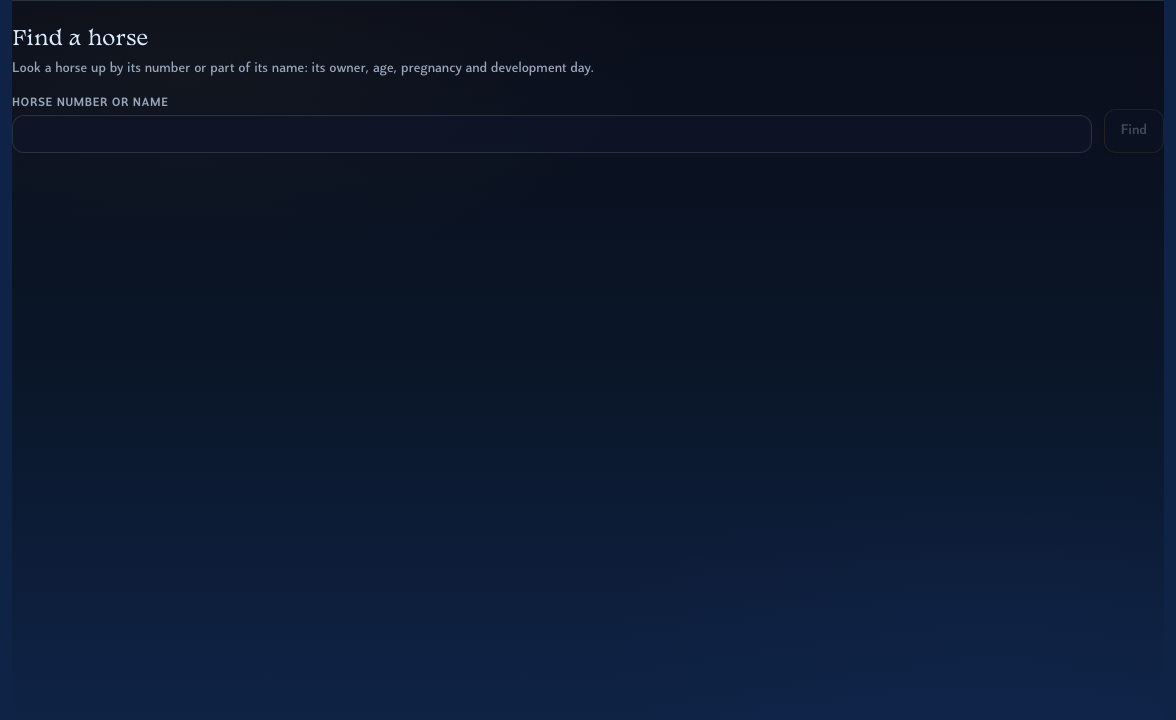
Scenario: StaffHorseLookup › names hidden traits when the server sends them (the Owner), by their authored names
The width and height of the screenshot is (1176, 720).
Type "42" into the field labelled "Horse number or name" at (552, 134), box [12, 115, 1092, 153]
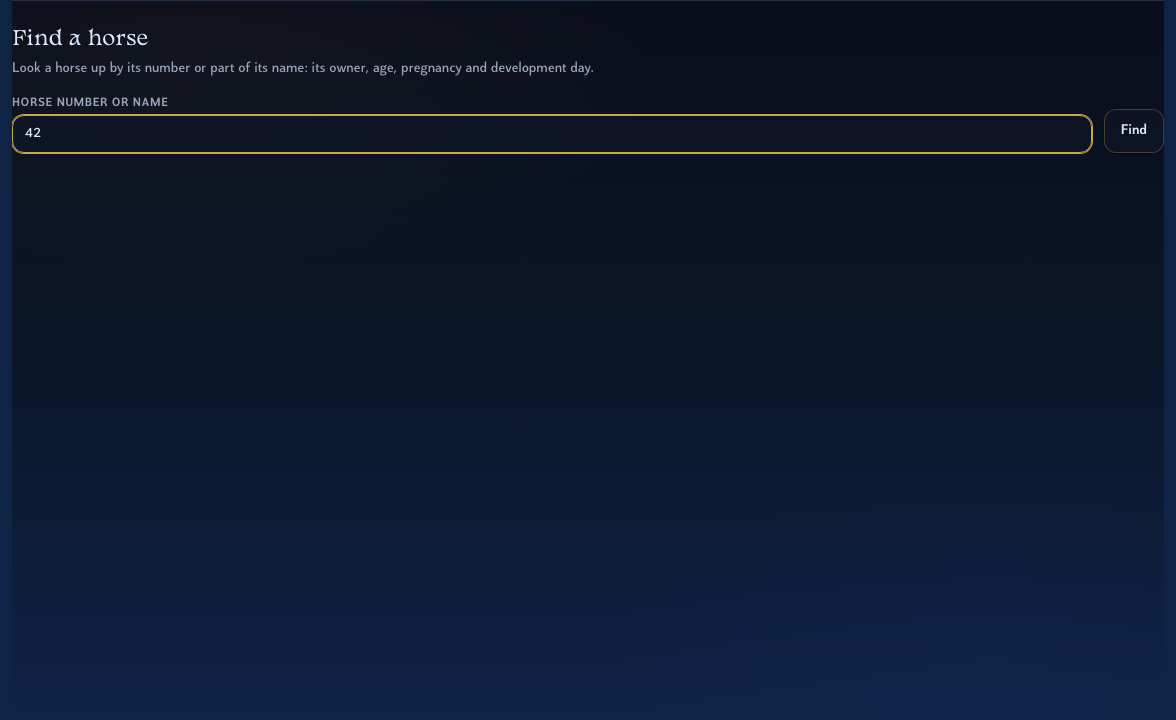
Click the button "Find" at (1134, 131), box [1104, 109, 1164, 153]
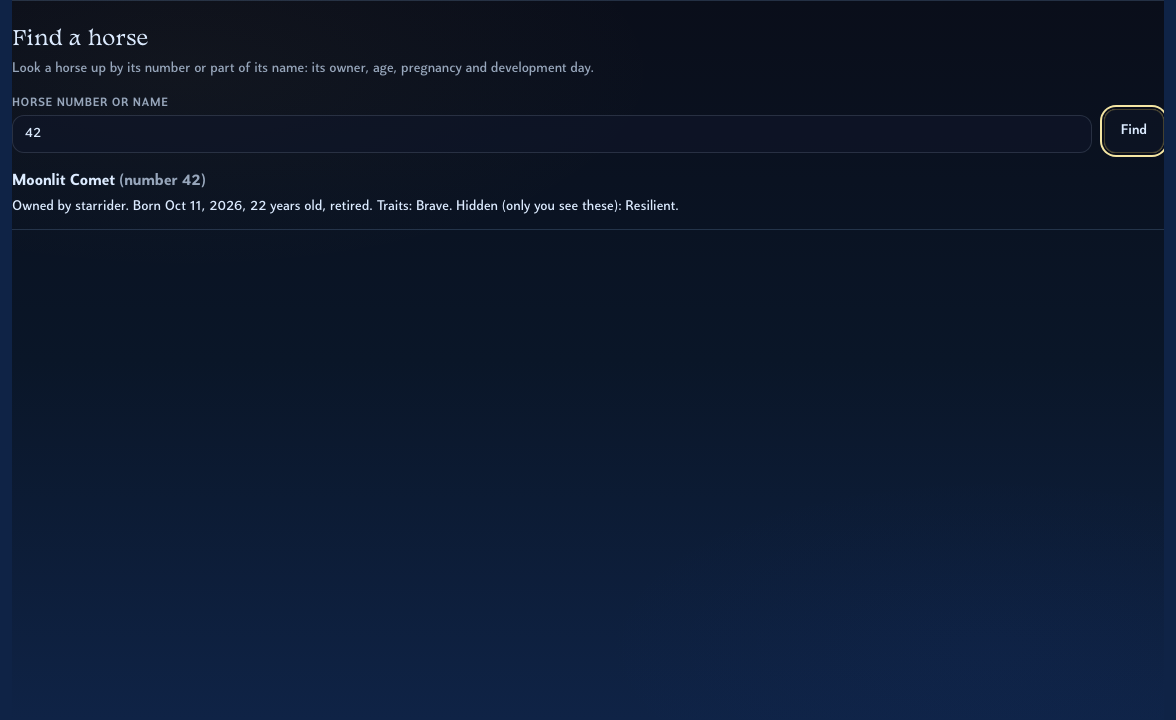
Check: the text "Owned by starrider." does not show "resilient", box [12, 199, 679, 214]
Check: the text "Owned by starrider." shows "22 years old, retired.", box [12, 199, 679, 214]
Check: the text "Owned by starrider." shows "Hidden (only you see these): Resilient.", box [12, 199, 679, 214]
